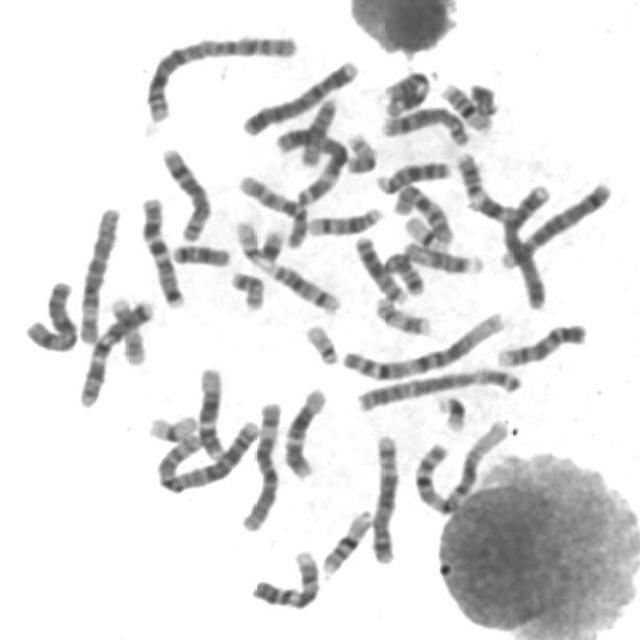A1: (335, 304, 508, 382), (408, 412, 511, 516)
A2: (138, 28, 302, 123), (151, 414, 262, 494)
A3: (352, 362, 524, 415), (270, 121, 350, 208)
B4: (237, 54, 362, 138), (499, 180, 554, 312)
B5: (494, 176, 615, 273), (364, 429, 402, 566)
C10: (232, 168, 310, 250), (389, 178, 456, 249)
C11: (452, 146, 534, 228), (377, 66, 433, 118)
C12: (278, 382, 329, 482), (191, 362, 228, 461)
C6: (72, 200, 123, 346), (235, 395, 284, 534)
C7: (73, 293, 156, 410), (134, 190, 188, 310)
C8: (155, 141, 213, 244), (376, 101, 472, 147)
C9: (492, 317, 590, 369), (246, 544, 322, 611)
D13: (350, 230, 410, 306), (370, 154, 452, 196)
D14: (262, 257, 342, 316), (302, 200, 385, 238)
D15: (294, 92, 340, 168), (398, 237, 486, 276)
E16: (316, 503, 376, 578), (435, 77, 494, 135)
E17: (103, 292, 148, 368), (369, 291, 434, 338)
E18: (378, 248, 427, 297), (167, 238, 233, 268)
F19: (142, 408, 198, 444), (400, 211, 450, 250)
F20: (225, 265, 267, 313), (340, 128, 379, 175)
G21: (430, 389, 468, 433), (253, 223, 286, 266)
G22: (300, 318, 341, 367), (229, 214, 264, 267)
X: (18, 274, 80, 354)
Y: (464, 77, 501, 117)
